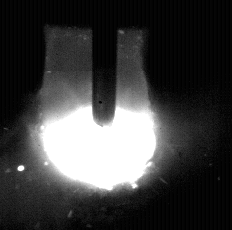arame: (93, 0, 118, 127)
poca: (42, 0, 155, 230)
